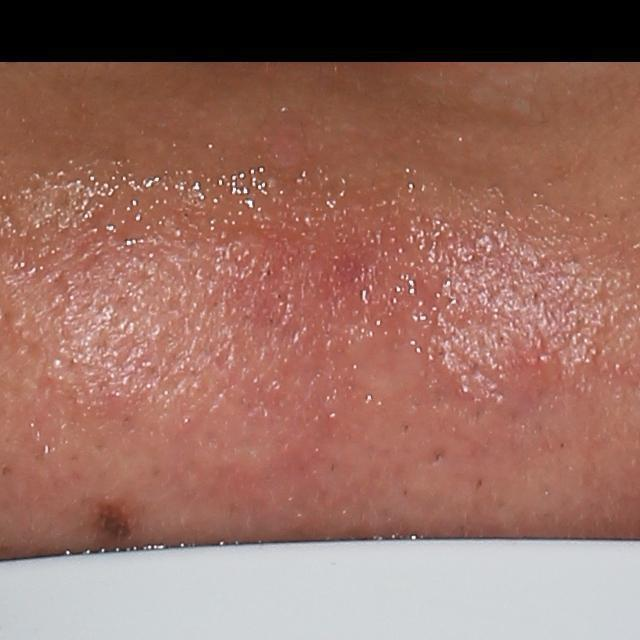nevus: (91, 497, 137, 542)
